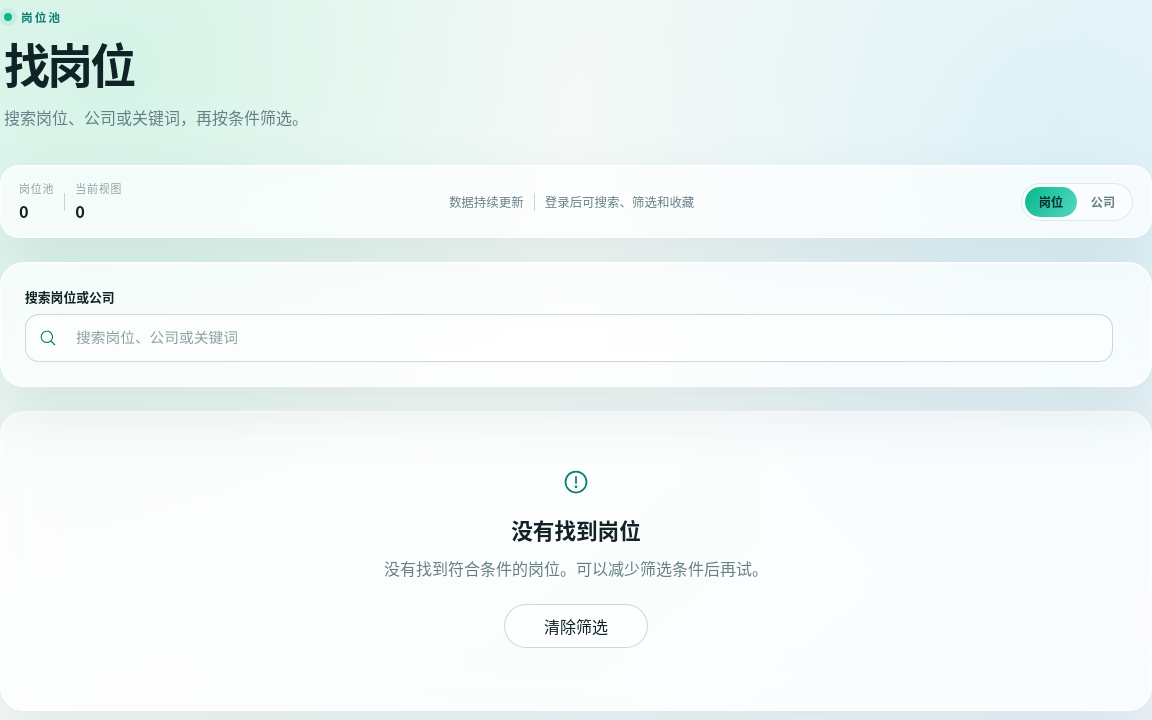
Test: JobsPage › opens the city picker from province to city
Click the field with placeholder "搜索岗位、公司或关键词": (569, 338) [25, 314, 1113, 362]
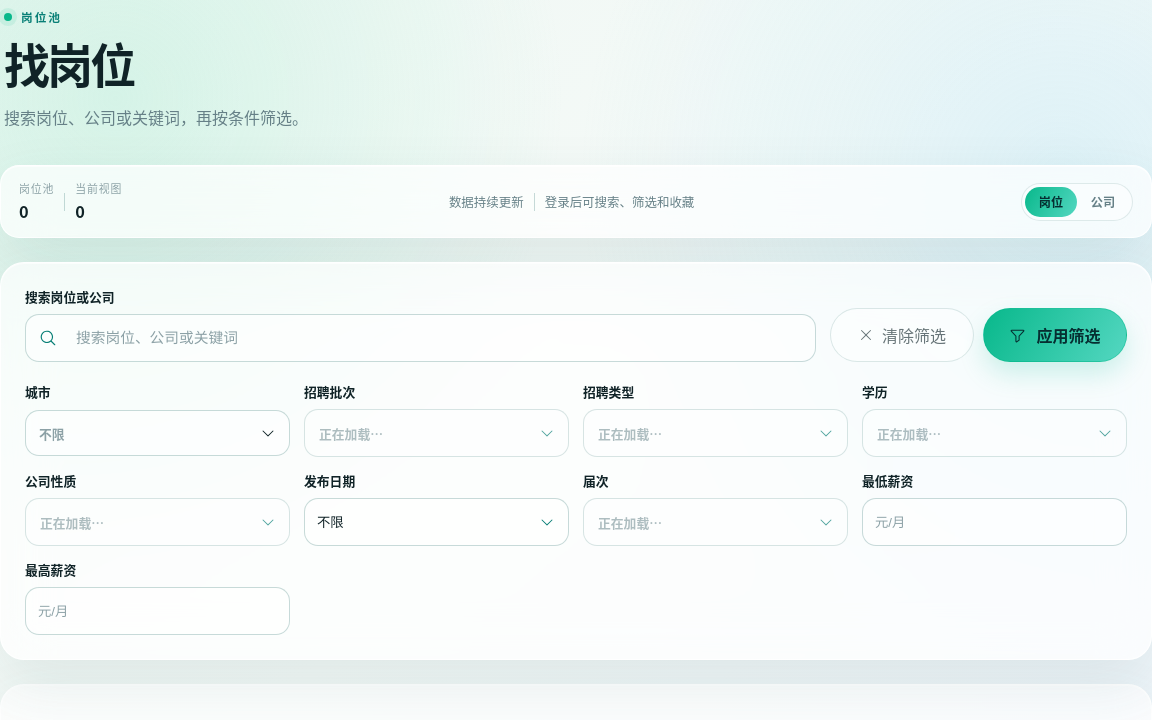
Click the button with aria-label "城市": (52, 433) [25, 410, 290, 456]
(page scrolled)
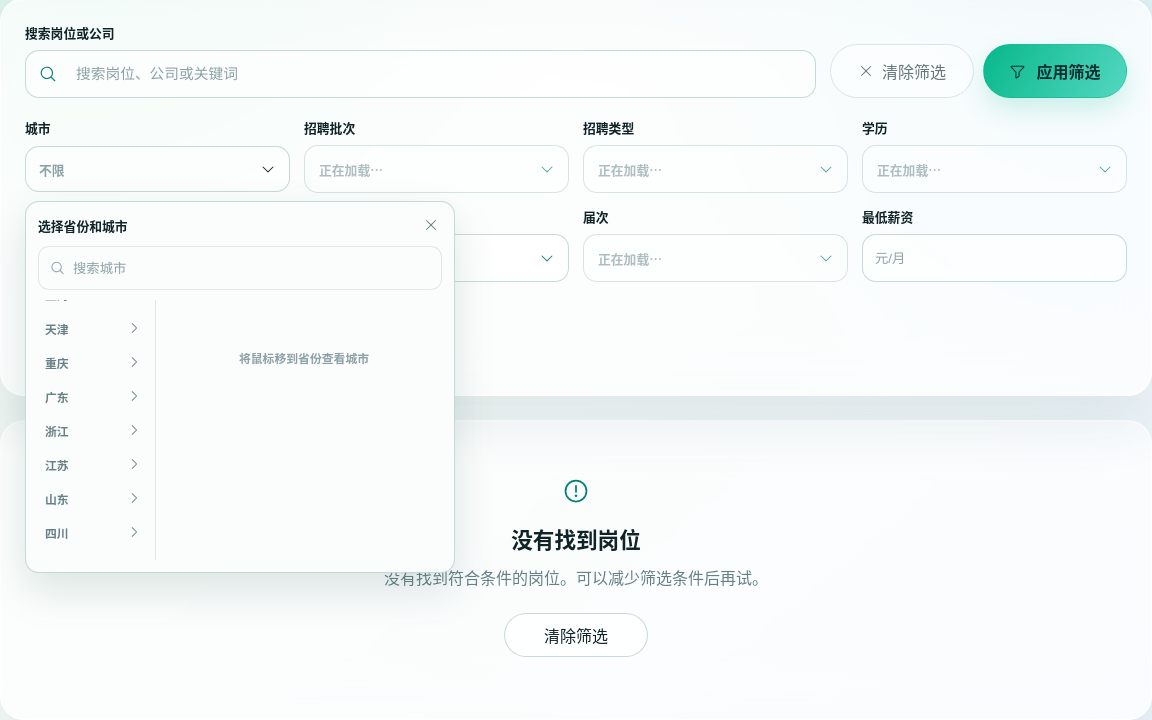
Click the button "浙江": (93, 430) [38, 414, 148, 446]
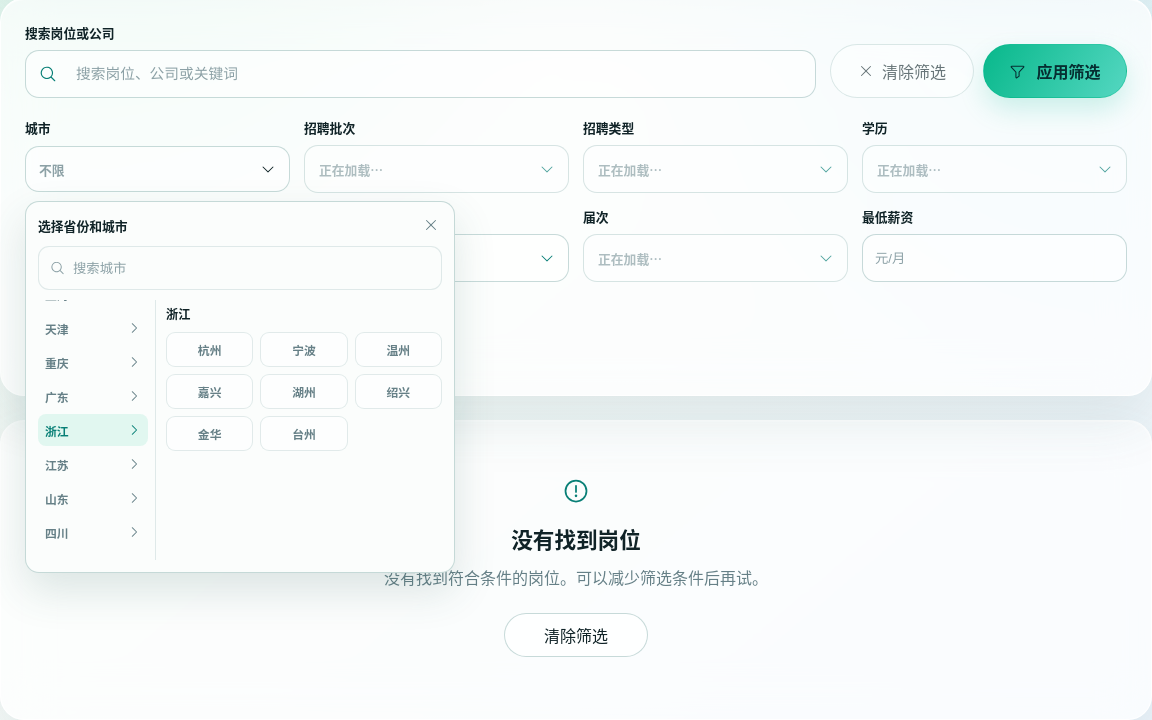
Expected: the option "杭州" is shown, [166, 332, 253, 367]
